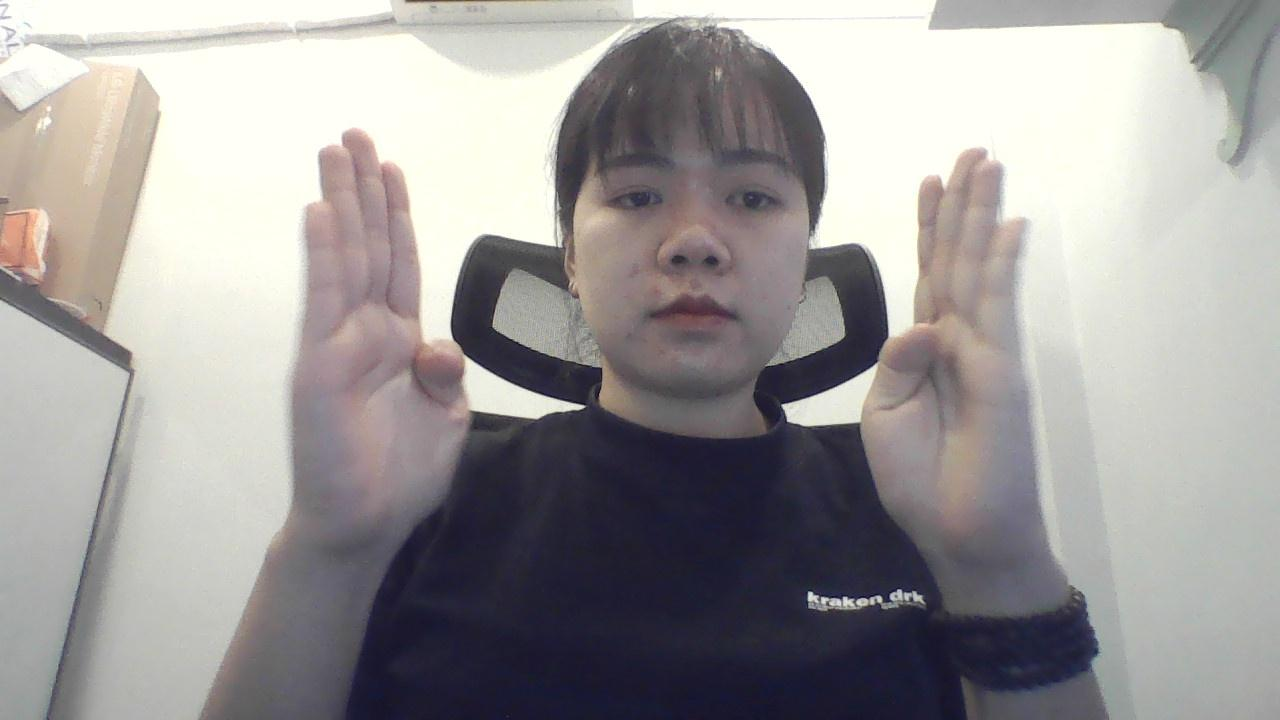B: (262, 114, 479, 599), (860, 137, 1060, 575)
